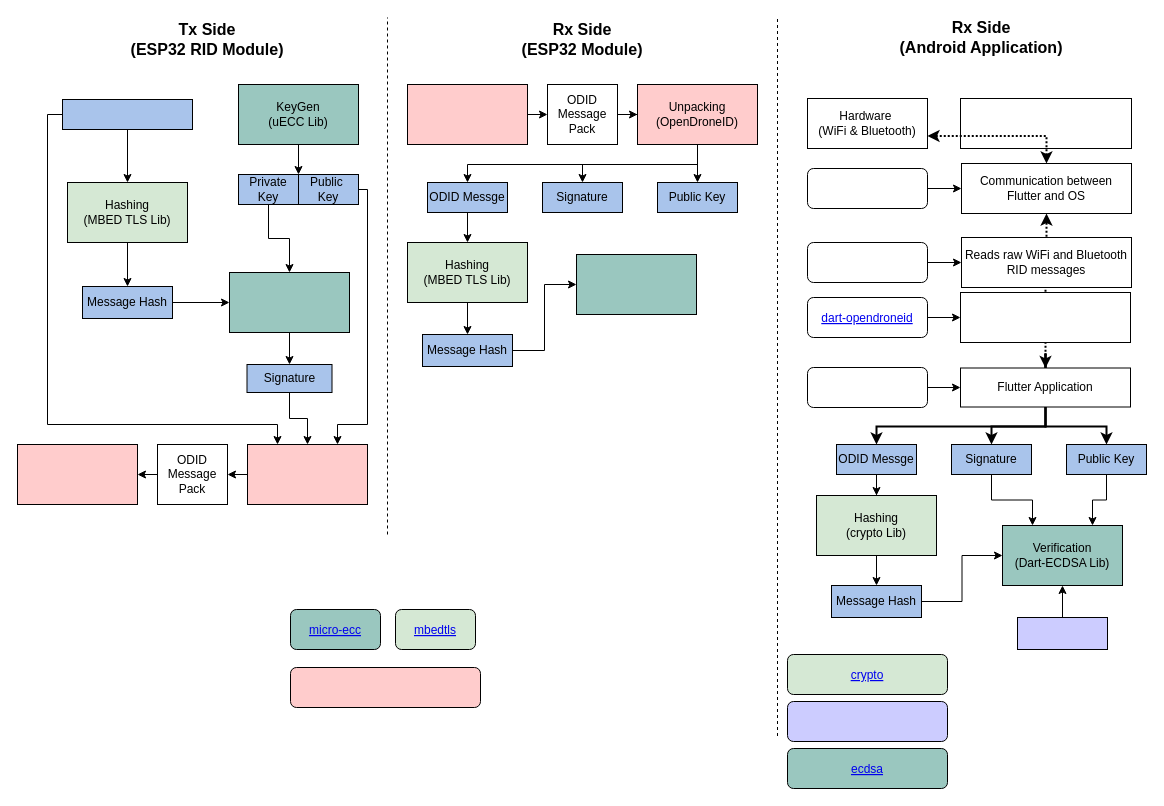
This 1164x806 diagram has some shape labels left out. Each missing label, with the centre of its shape:
"drone-scanner" belongs at pixel 867 387.
"ECDSA Curve" belongs at pixel 1062 633.
"elliptic" belongs at pixel 867 721.
"flutter-opendroneid" belongs at pixel 867 262.
"Mobile device OS" belongs at pixel 1046 123.
"ODID Message to Sign" belongs at pixel 127 114.
"opendroneid-core-c" belongs at pixel 385 687.
"Packing (OpenDroneID)" belongs at pixel 307 474.
"pigeon" belongs at pixel 867 188.
"Raw data is parsed to RID messages" belongs at pixel 1045 317.
"Rx (OpenDroneID)" belongs at pixel 467 114.
"Signing (uECC Lib)" belongs at pixel 289 302.
"Tx (OpenDroneID)" belongs at pixel 77 474.
"Verification (uECC Lib)" belongs at pixel 636 284.
